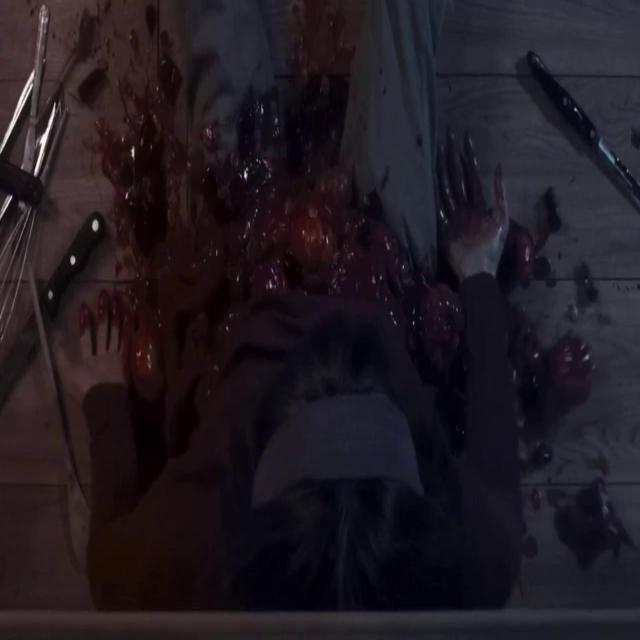flood: (124, 82, 380, 356)
